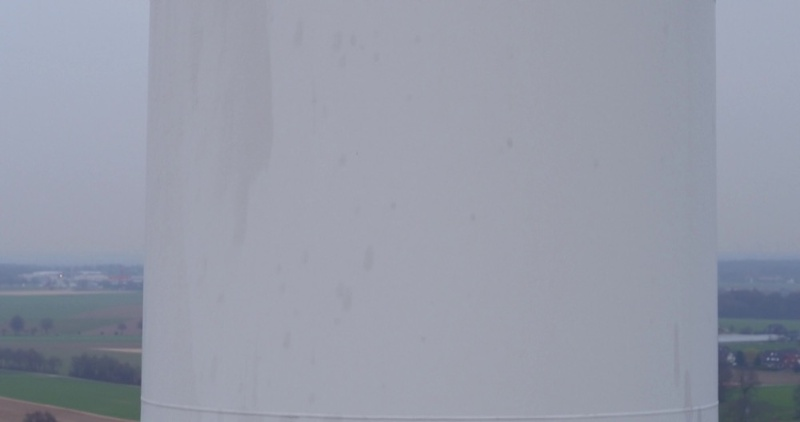weldseam: (140, 394, 719, 422)
